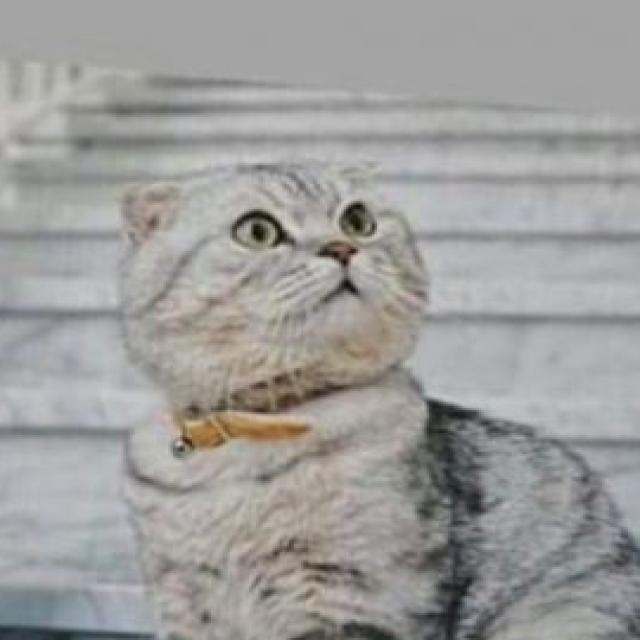Scottish Fold: (106, 150, 640, 640)
